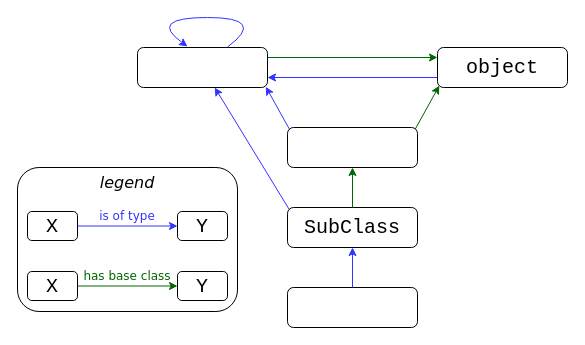
This 585x345 diagram has some shape labels left out. The centre of each missing label's shape, as x and y in pixels:
Class: (352,147)
instance: (352,307)
type: (202,67)
